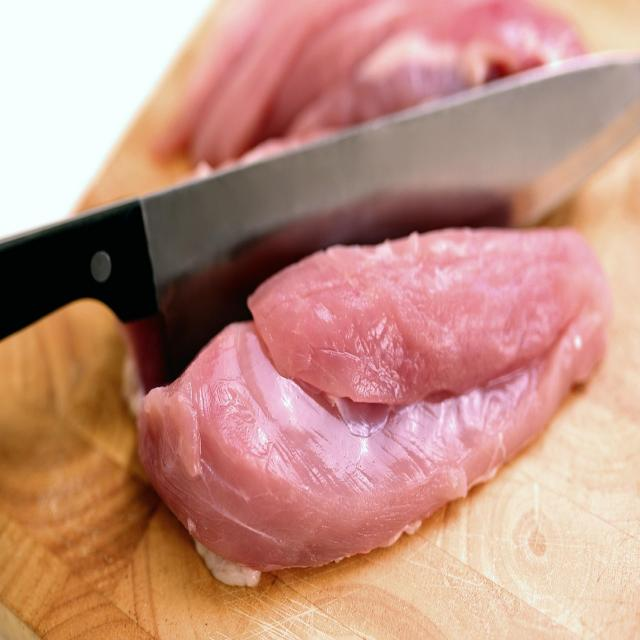Knife: (0, 54, 640, 382)
